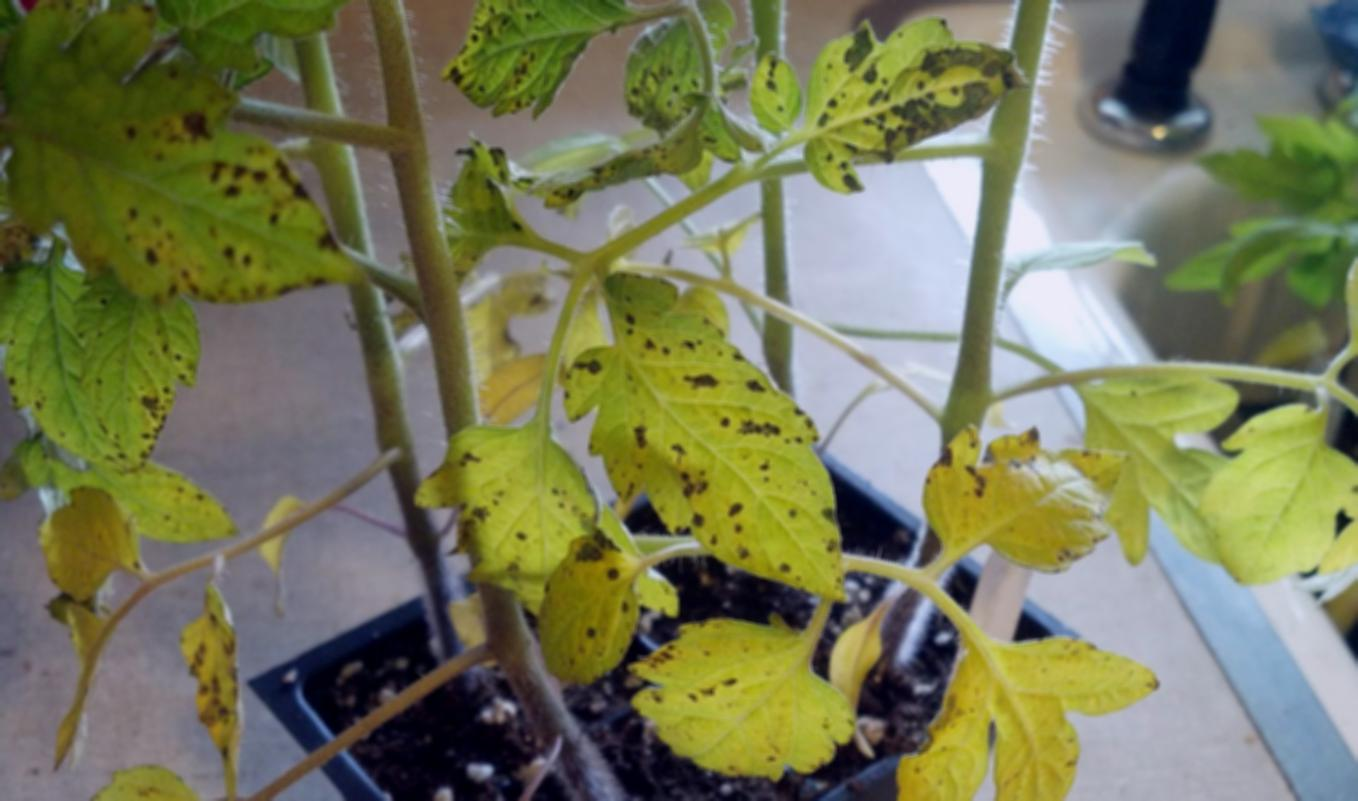Tomato Septoria leaf spot: (0, 5, 373, 310), (577, 266, 863, 622), (0, 237, 231, 479), (792, 1, 1030, 207), (622, 595, 863, 784), (392, 406, 606, 612), (429, 0, 656, 107)
